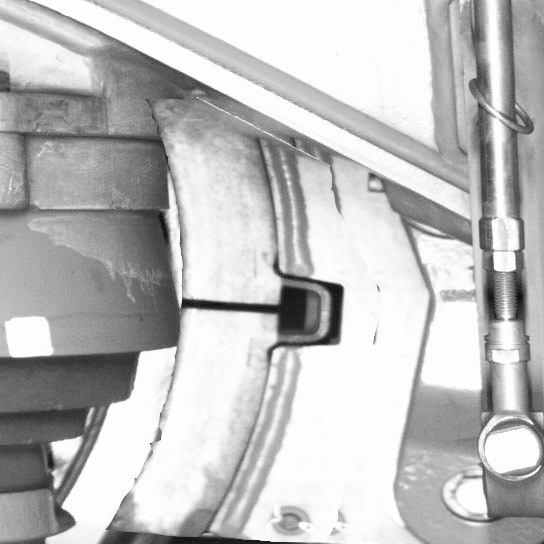ClosedKnifeSwitch: (96, 138, 312, 540)
